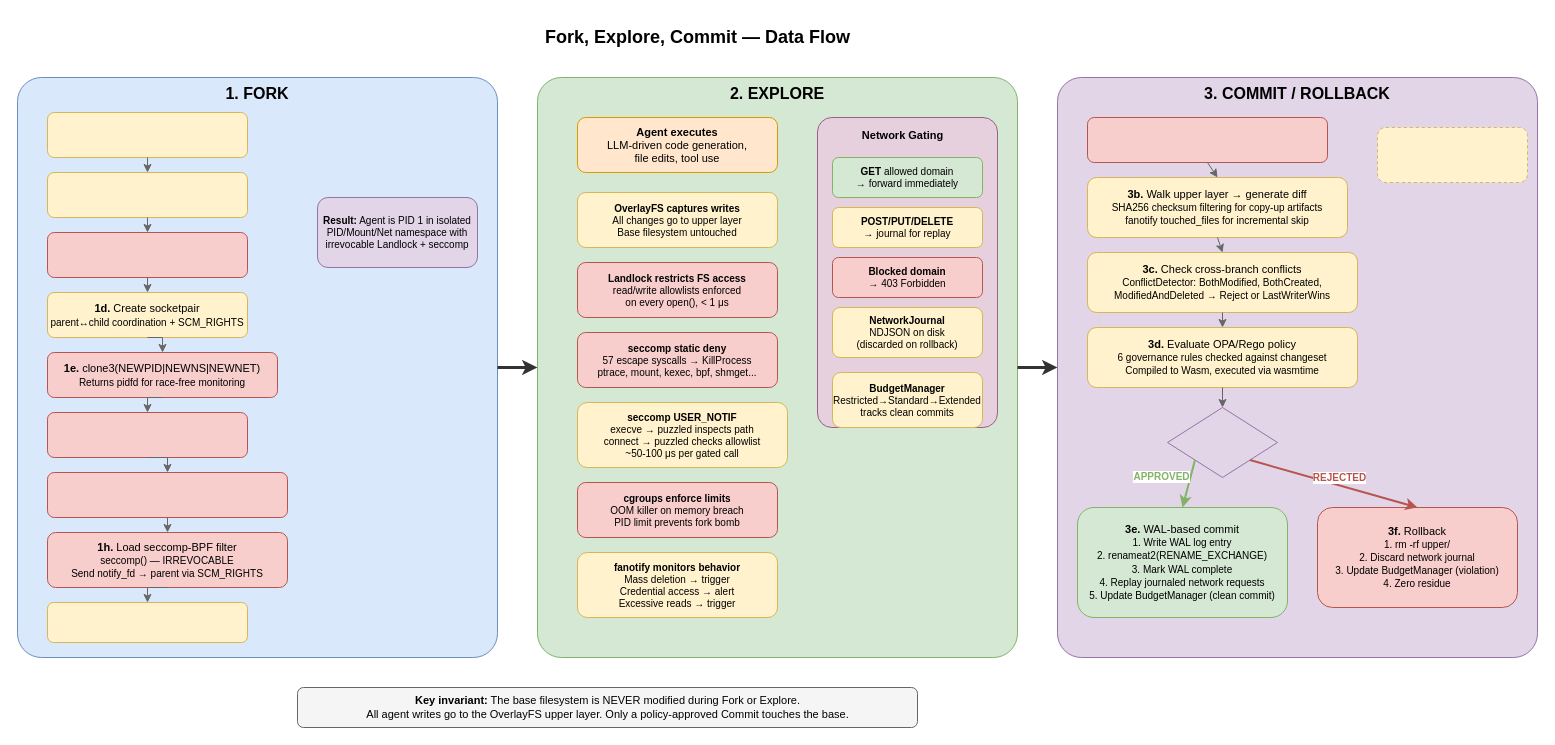
Some shapes in this 1555 by 745 pixel diagram are drawn without their labels. The centre of each missing label's shape, as x and y in pixels:
1a. Create OverlayFS dirs upper/ work/ merged/: (147,135)
1b. Mount OverlayFS lower=base, upper=branch: (147,195)
1c. Create cgroup scope memory, cpu, pids limits: (147,255)
1f. Move child → cgroup Write PID to cgroup.procs: (147,435)
1g. Signal child: apply Landlock landlock_restrict_self() — IRREVOCABLE: (167,495)
1i. XFS project quotas Storage + inode limits (best-effort): (147,622)
3a. cgroup.freeze Freeze all agent processes (TOCTOU protection): (1207,139)
AuditStore Every action logged to NDJSON + Linux Audit netlink: (1452,154)
Policy decision?: (1222,442)
